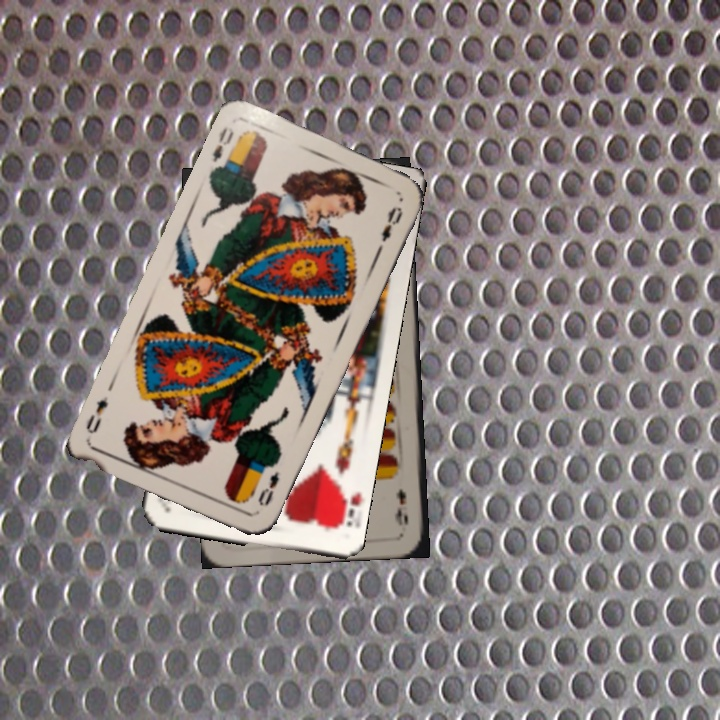E9: (392, 485, 411, 528)
EO: (253, 468, 282, 509), (208, 124, 237, 165)
HK: (330, 480, 359, 532)
